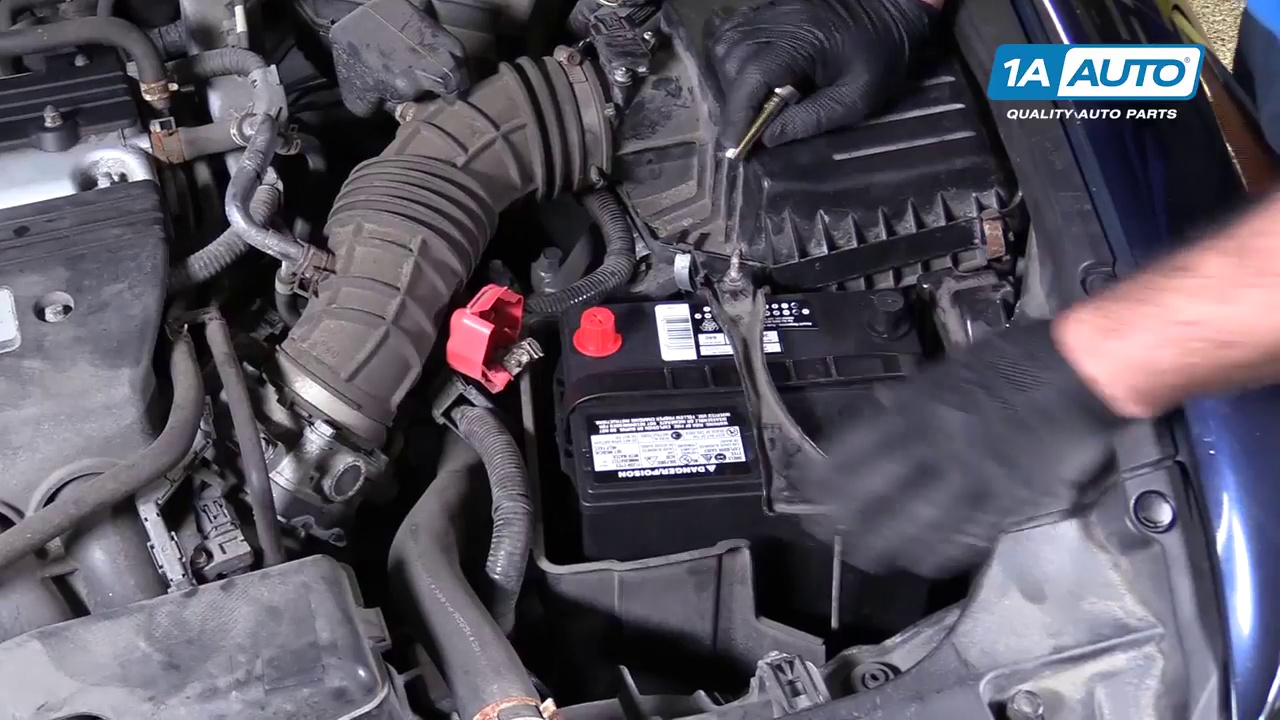battery: (563, 291, 934, 479)
pos_disconnected: (445, 269, 633, 389)
